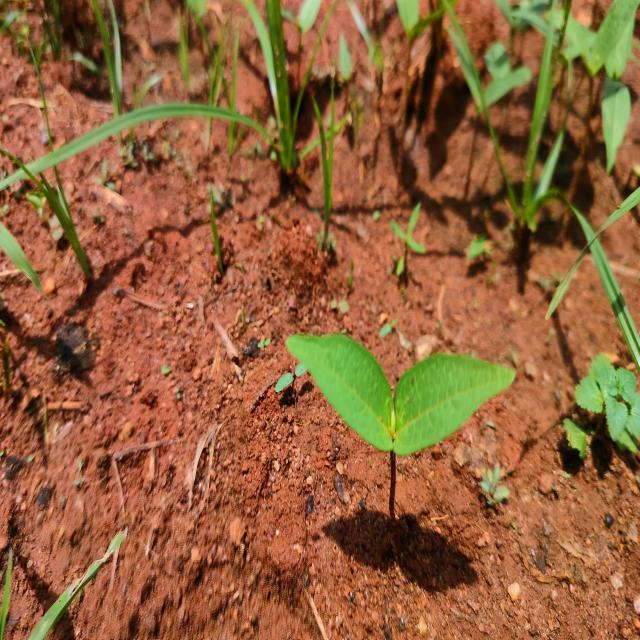Black gram_healthy: (287, 332, 393, 454), (393, 358, 512, 452)
